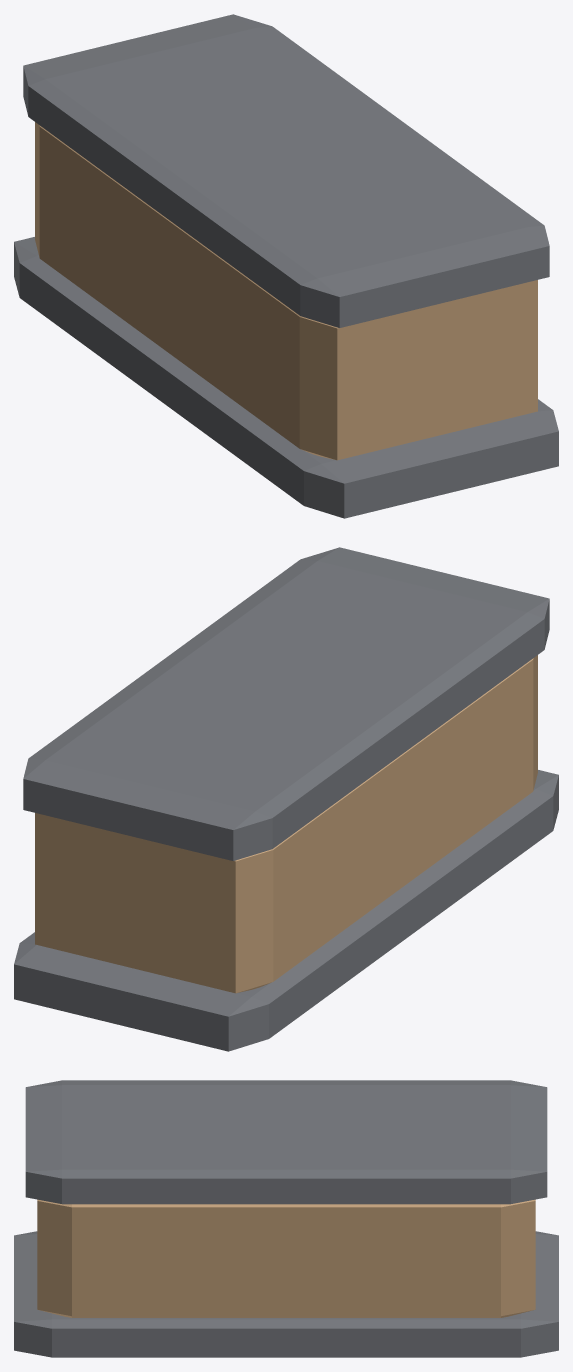
Rendered from b13_timber_creek_pedestrian_bridge.glb.
The picture shows the model from 3 angles, top to bottom: view 1: azimuth 30°, elevation 25°; view 2: azimuth 150°, elevation 25°; view 3: azimuth 270°, elevation 25°; orthographic projection. The views are drawn at different scales.
Visible parts, largest first — view 1: b13_timber_creek_pedestrian_bridge; view 2: b13_timber_creek_pedestrian_bridge; view 3: b13_timber_creek_pedestrian_bridge.
Part boxes in pixels (box(x1,y1,x2,y2)): b13_timber_creek_pedestrian_bridge: box(14, 14, 558, 518); b13_timber_creek_pedestrian_bridge: box(14, 547, 558, 1051); b13_timber_creek_pedestrian_bridge: box(14, 1080, 558, 1357).
Size of the model in its own units: 1.8 by 1.52 by 4.13.
